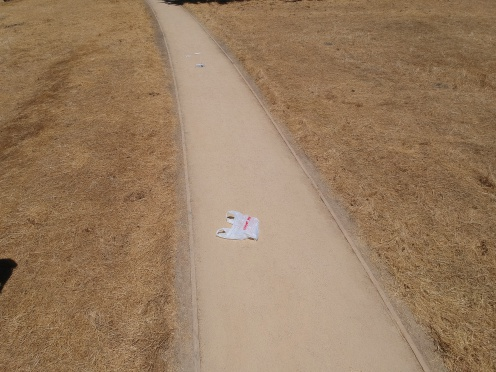bottle: (190, 62, 210, 70)
plastic bag: (209, 205, 265, 243)
